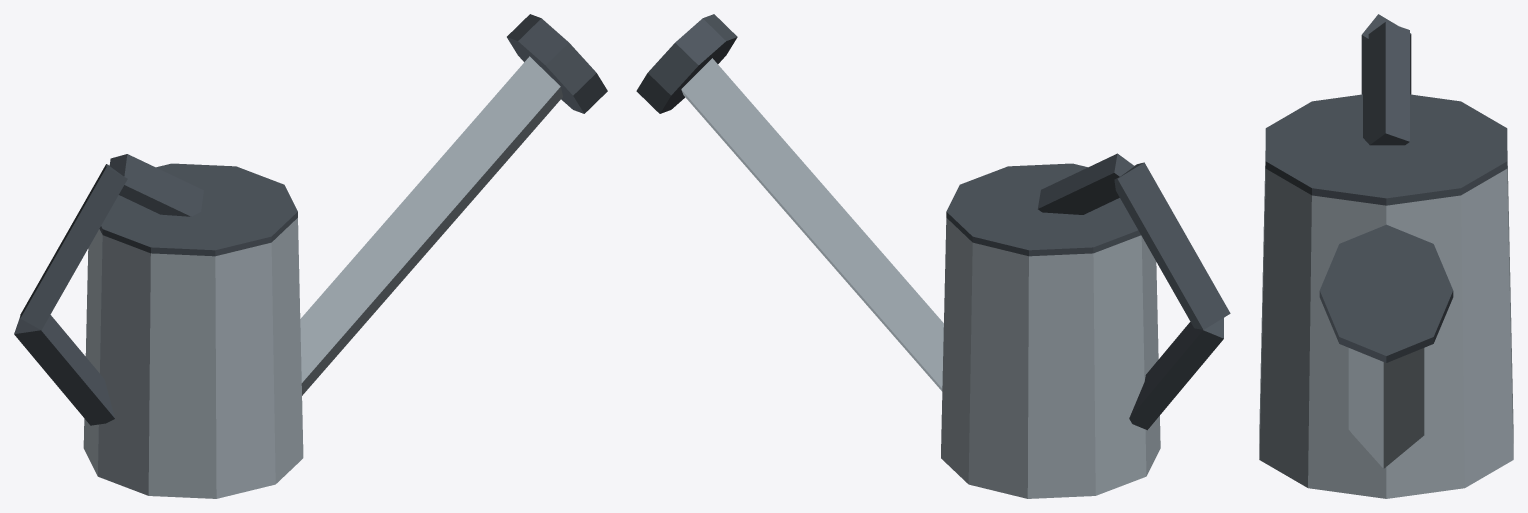
Rendered from GT_WateringCan_01.glb.
3 renders of one model, left to right at view 1: azimuth 30°, elevation 25°; view 2: azimuth 150°, elevation 25°; view 3: azimuth 270°, elevation 25°, orthographic. The views are drawn at different scales.
Parts seen in each view (by area): view 1: GT_WateringCan_01; view 2: GT_WateringCan_01; view 3: GT_WateringCan_01.
Part boxes in pixels (x1=…): GT_WateringCan_01: x1=14, y1=14, x2=607, y2=498; GT_WateringCan_01: x1=636, y1=14, x2=1230, y2=498; GT_WateringCan_01: x1=1259, y1=14, x2=1513, y2=498.
Bounding box in the file's own units: 0.6054 × 0.3496 × 0.1902.
Materials: 1 (1 with a texture image).
